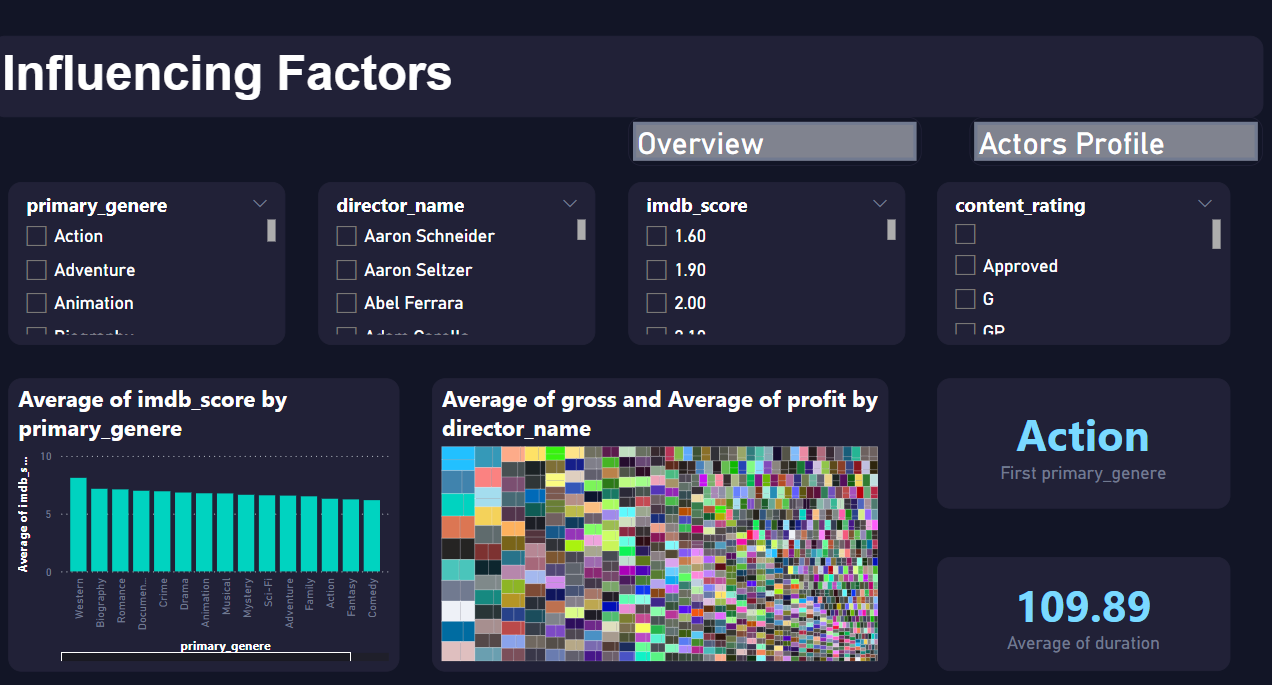

What the dashboard file says about the page in this screenshot:
{"tool":"powerbi","page":{"name":"Page 2","canvas":[1280,720],"ordinal":1},"visuals":[{"type":"card","fields":{"Values":["IMDB_Movies (1).duration"]},"box":[928,560,288,112],"z":0},{"type":"textbox","box":[0,48,1248,80],"z":1000},{"type":"slicer","fields":{"Values":["IMDB_Movies (1).director_name"]},"box":[320,192,272,160],"z":2000},{"type":"slicer","fields":{"Values":["IMDB_Movies (1).primary_genere"]},"box":[16,192,272,160],"z":3000},{"type":"slicer","fields":{"Values":["IMDB_Movies (1).imdb_score"]},"box":[624,192,272,160],"z":4000},{"type":"columnChart","fields":{"Category":["IMDB_Movies (1).primary_genere"],"Y":["IMDB_Movies (1).imdb_score"]},"box":[16,384,384,288],"z":5000},{"type":"treemap","fields":{"Values":["IMDB_Movies (1).gross","IMDB_Movies (1).profit"],"Group":["IMDB_Movies (1).director_name"]},"box":[432,384,448,288],"z":6000},{"type":"card","fields":{"Values":["IMDB_Movies (1).primary_genere"]},"box":[928,384,288,128],"z":7000},{"type":"slicer","fields":{"Values":["IMDB_Movies (1).content_rating"]},"box":[928,192,288,160],"z":8000},{"type":"actionButton","box":[624,128,288,48],"z":9000},{"type":"actionButton","box":[960,128,288,48],"z":11000}]}

Visuals, with their boxes on the page's 1280x720 design canvas (x1, y1, x2, y2). These are canvas units, not pixel positions in the 1272x685 screenshot, which may show the page scaled, cropped or inside an application window:
card - IMDB_Movies (1).duration: (x1=928, y1=560, x2=1216, y2=672)
textbox: (x1=0, y1=48, x2=1248, y2=128)
slicer - IMDB_Movies (1).director_name: (x1=320, y1=192, x2=592, y2=352)
slicer - IMDB_Movies (1).primary_genere: (x1=16, y1=192, x2=288, y2=352)
slicer - IMDB_Movies (1).imdb_score: (x1=624, y1=192, x2=896, y2=352)
columnChart - IMDB_Movies (1).primary_genere x IMDB_Movies (1).imdb_score: (x1=16, y1=384, x2=400, y2=672)
treemap - IMDB_Movies (1).gross x IMDB_Movies (1).profit: (x1=432, y1=384, x2=880, y2=672)
card - IMDB_Movies (1).primary_genere: (x1=928, y1=384, x2=1216, y2=512)
slicer - IMDB_Movies (1).content_rating: (x1=928, y1=192, x2=1216, y2=352)
actionButton: (x1=624, y1=128, x2=912, y2=176)
actionButton: (x1=960, y1=128, x2=1248, y2=176)
